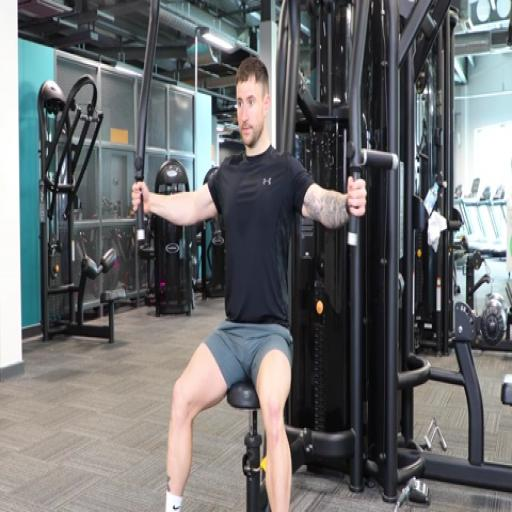exercise: (129, 54, 369, 511)
